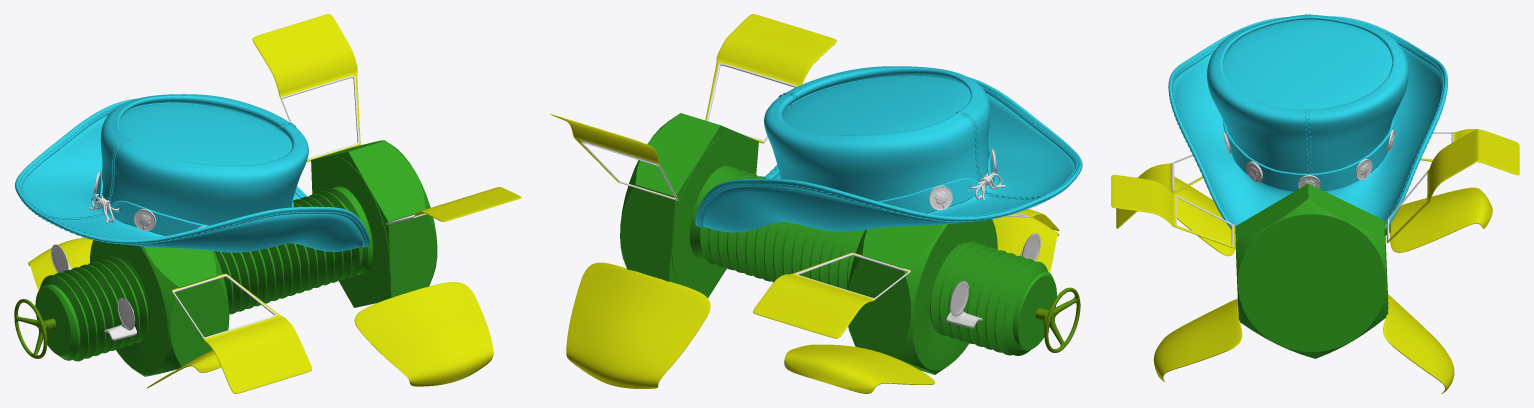
Rendered from chapeau.fbx.
The picture shows the model from 3 angles, left to right: view 1: azimuth 30°, elevation 25°; view 2: azimuth 150°, elevation 25°; view 3: azimuth 270°, elevation 25°; orthographic projection. The views are drawn at different scales.
Parts seen in each view (by area): view 1: noble leather hat., 20mm hex4gon screw with nut, Bolt.001, cotxe base.007, cotxe base.008, cotxe base.003, cotxe base.001, cotxe base.004, volant, miralls.002, cotxe base.002; view 2: noble leather hat., 20mm hex4gon screw with nut, cotxe base.006, Bolt.001, cotxe base.001, cotxe base.005, cotxe base.004, cotxe base.008, cotxe base.002, volant, miralls.001; view 3: noble leather hat., 20mm hex4gon screw with nut, cotxe base.004, cotxe base.007, cotxe base.006, cotxe base.001, cotxe base.002, cotxe base.008, cotxe base.005, cotxe base.003.
Part boxes in pixels (box(x1,y1,x2,y2)): noble leather hat.: box(15, 94, 369, 252); 20mm hex4gon screw with nut: box(35, 140, 437, 361); Bolt.001: box(90, 240, 229, 376); cotxe base.007: box(354, 282, 493, 386); cotxe base.008: box(252, 14, 360, 161); cotxe base.003: box(172, 273, 311, 393); cotxe base.001: box(385, 187, 521, 224); cotxe base.004: box(28, 237, 93, 290); volant: box(14, 299, 56, 358); miralls.002: box(104, 298, 136, 340); cotxe base.002: box(146, 350, 220, 388); noble leather hat.: box(695, 66, 1082, 232); 20mm hex4gon screw with nut: box(620, 113, 1056, 355); cotxe base.006: box(566, 262, 710, 388); Bolt.001: box(847, 219, 997, 374); cotxe base.001: box(705, 14, 836, 143); cotxe base.005: box(753, 252, 910, 338); cotxe base.004: box(784, 344, 935, 393); cotxe base.008: box(550, 114, 678, 200); cotxe base.002: box(992, 213, 1058, 272); volant: box(1035, 287, 1080, 352); miralls.001: box(946, 280, 982, 328); noble leather hat.: box(1168, 14, 1447, 233); 20mm hex4gon screw with nut: box(1235, 183, 1388, 358); cotxe base.004: box(1389, 187, 1492, 252); cotxe base.007: box(1153, 298, 1242, 381); cotxe base.006: box(1383, 294, 1454, 393); cotxe base.001: box(1111, 175, 1234, 248); cotxe base.002: box(1174, 176, 1235, 256); cotxe base.008: box(1386, 129, 1478, 243); cotxe base.005: box(1420, 129, 1519, 175); cotxe base.003: box(1116, 154, 1203, 228).
Bounding box in the file's own units: 493 × 304 × 447.
